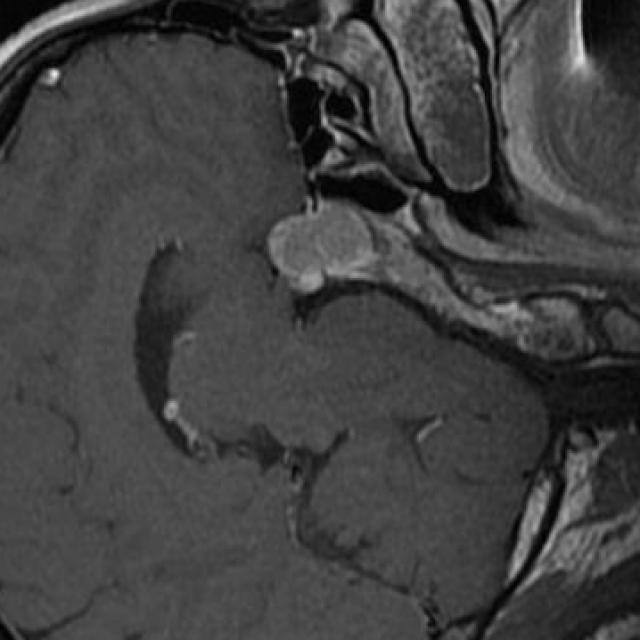pituitary: (267, 203, 376, 294)
